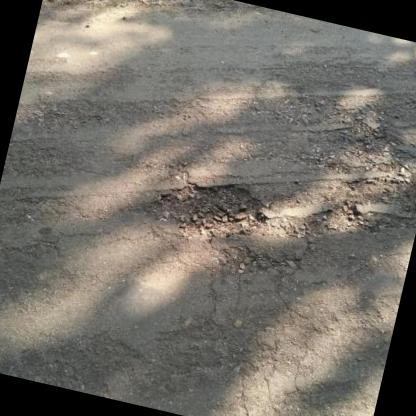pothole: (145, 164, 274, 250)
